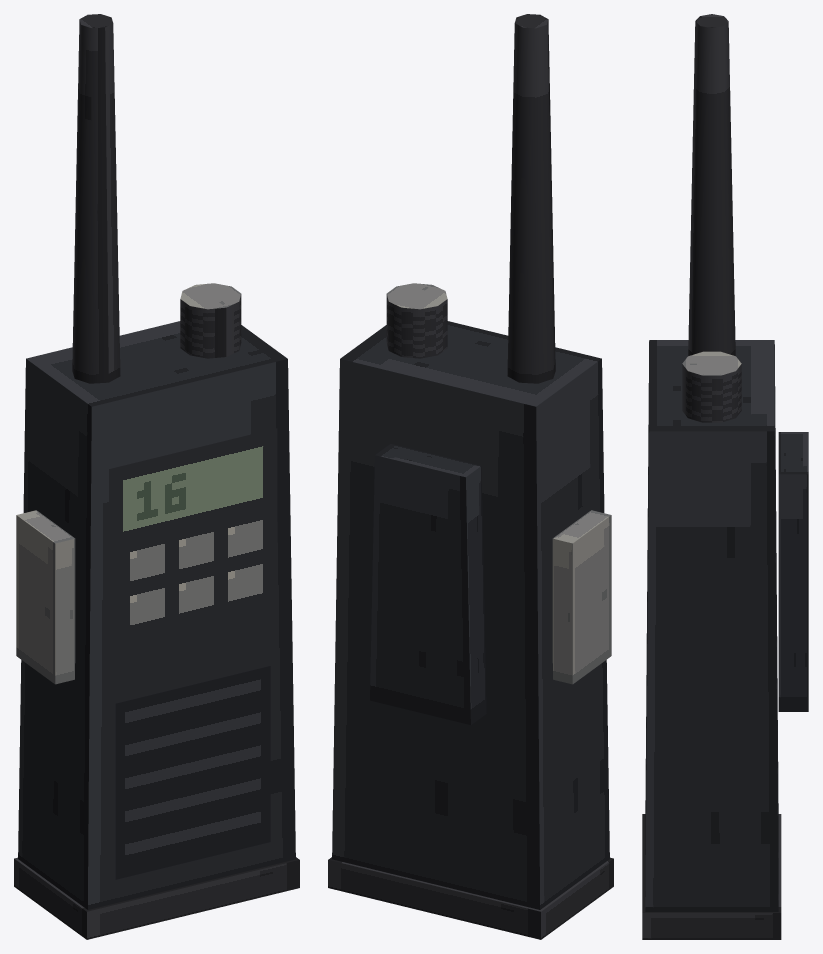
The model's file is INV_HandheldRadio.glb.
3 renders of one model, left to right at view 1: azimuth 30°, elevation 25°; view 2: azimuth 150°, elevation 25°; view 3: azimuth 270°, elevation 25°, orthographic. The views are drawn at different scales.
Visible parts, largest first — view 1: INV_HandheldRadio_Mesh; view 2: INV_HandheldRadio_Mesh; view 3: INV_HandheldRadio_Mesh.
Part boxes in pixels (x1,y1,x2,y2): INV_HandheldRadio_Mesh: (14,14,299,939); INV_HandheldRadio_Mesh: (328,14,613,939); INV_HandheldRadio_Mesh: (642,14,808,939).
Size of what is drawn, in the model's own units: 0.0676 by 0.25 by 0.0447.
1 material, 1 textured.
